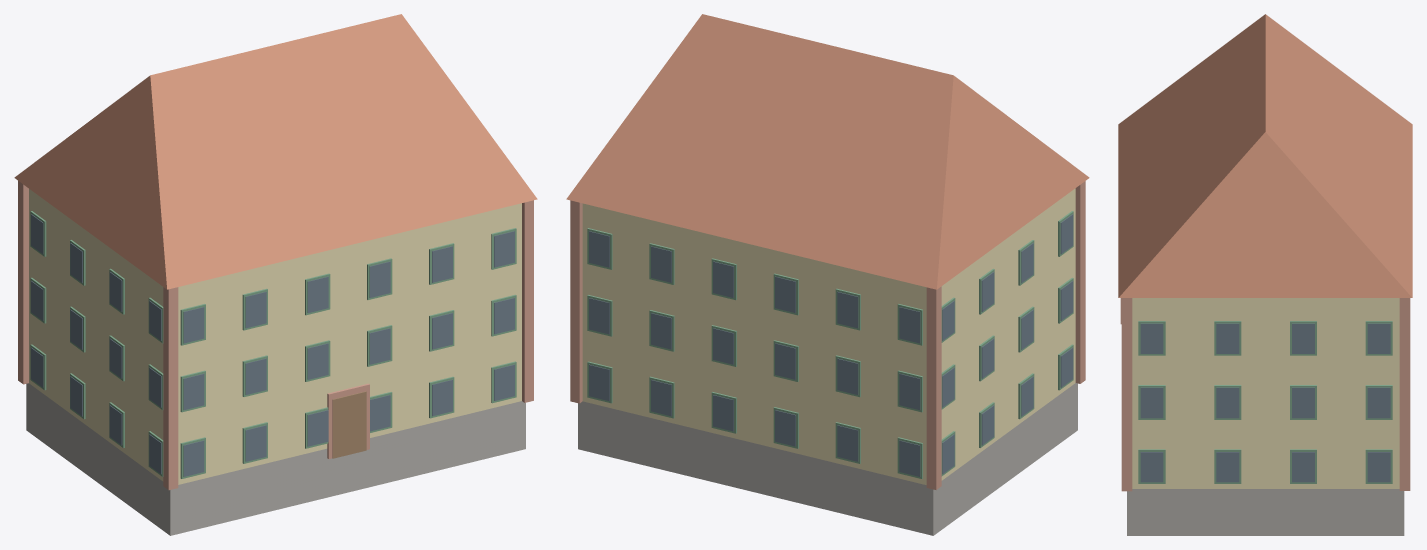
File: kandern-forsthaus.glb
3 views of the same model, side by side, from view 1: azimuth 30°, elevation 25°; view 2: azimuth 150°, elevation 25°; view 3: azimuth 270°, elevation 25° (orthographic). The views are drawn at different scales.
Visible parts, largest first — view 1: building; view 2: building; view 3: building.
Part boxes in pixels (left/top/right/bottom): building: left=14, top=14, right=537, bottom=535; building: left=566, top=14, right=1089, bottom=535; building: left=1118, top=14, right=1412, bottom=535.
Size of the model in its own units: 19.76 by 20.13 by 14.13.
